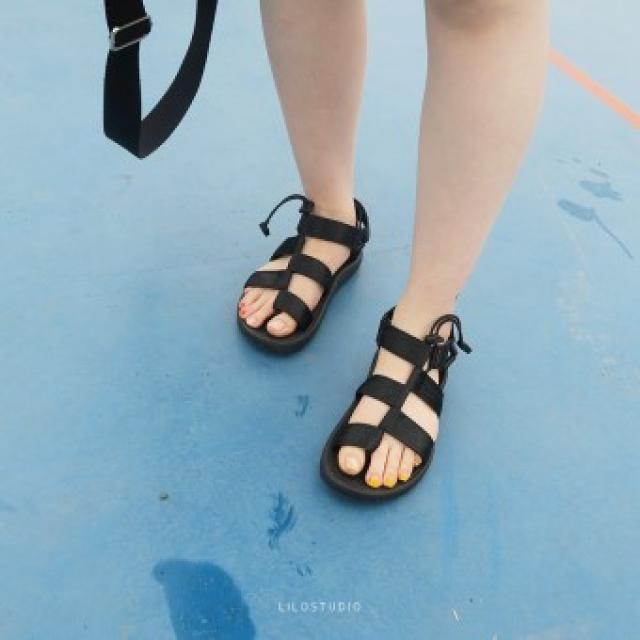no-boots: (292, 309, 542, 510), (226, 170, 358, 358)
